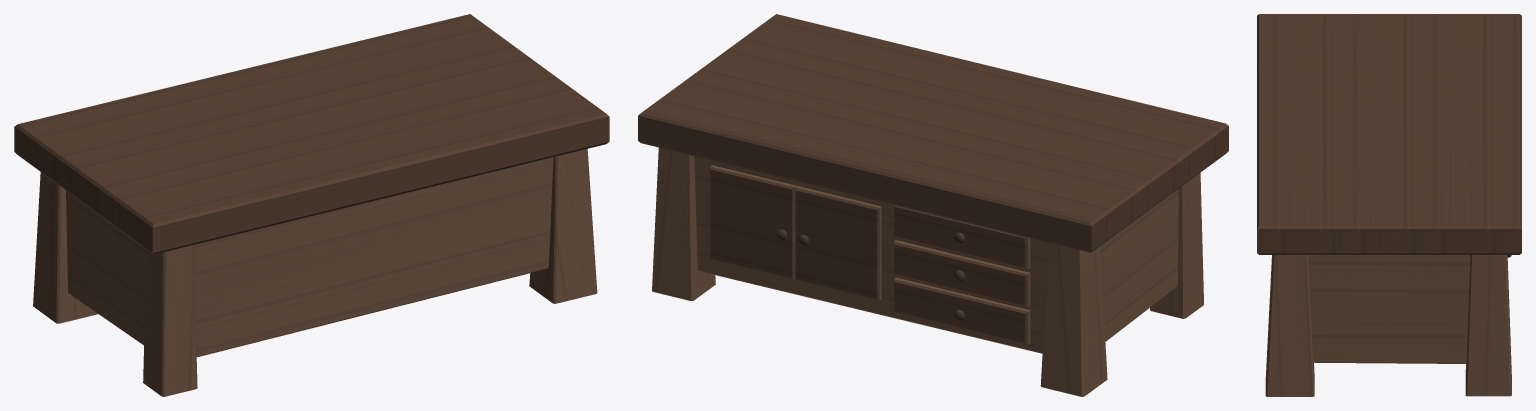
File: TVStand.fbx
3 renders of one model, left to right at view 1: azimuth 30°, elevation 25°; view 2: azimuth 150°, elevation 25°; view 3: azimuth 270°, elevation 25°, orthographic. The views are drawn at different scales.
Parts seen in each view (by area): view 1: TV_Stand; view 2: TV_Stand; view 3: TV_Stand.
Boxes of the visible parts, box(x1,y1,x2,y2) form: TV_Stand: box(14, 14, 609, 396); TV_Stand: box(638, 14, 1228, 396); TV_Stand: box(1257, 14, 1521, 396).
Size of the model in its own units: 172 by 65.27 by 90.14.
Materials: 1 (1 with a texture image).
